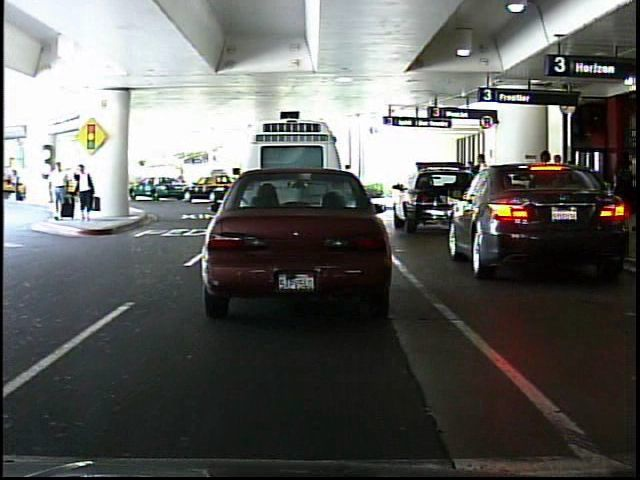person: (71, 160, 96, 223), (51, 156, 74, 219), (338, 158, 360, 199), (173, 165, 191, 197), (12, 167, 27, 205)
